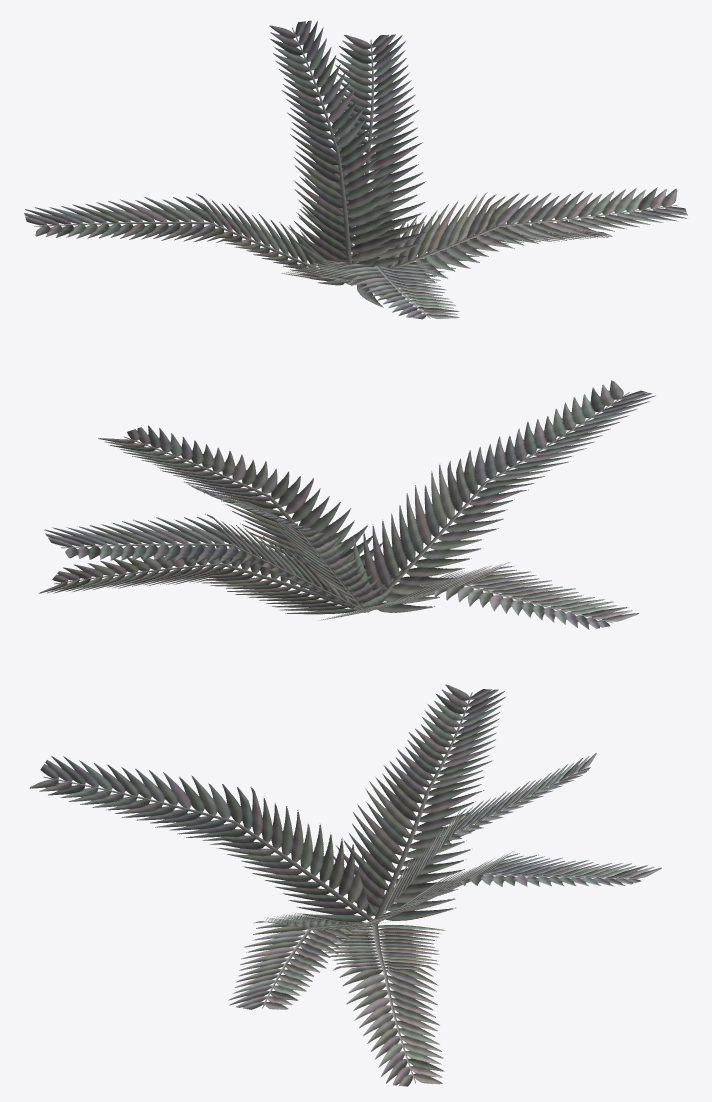
The model's file is palm_short_l2.gltf.
3 renders of one model, top to bottom at view 1: azimuth 30°, elevation 25°; view 2: azimuth 150°, elevation 25°; view 3: azimuth 270°, elevation 25°, orthographic. The views are drawn at different scales.
Parts seen in each view (by area): view 1: palm_short_l2; view 2: palm_short_l2; view 3: palm_short_l2.
Part boxes in pixels (left/top/right/bottom): palm_short_l2: left=24, top=20, right=687, bottom=319; palm_short_l2: left=38, top=380, right=655, bottom=629; palm_short_l2: left=29, top=684, right=661, bottom=1086.
Size of the model in its own units: 6.11 by 2.05 by 5.87.
1 material, 1 textured.
